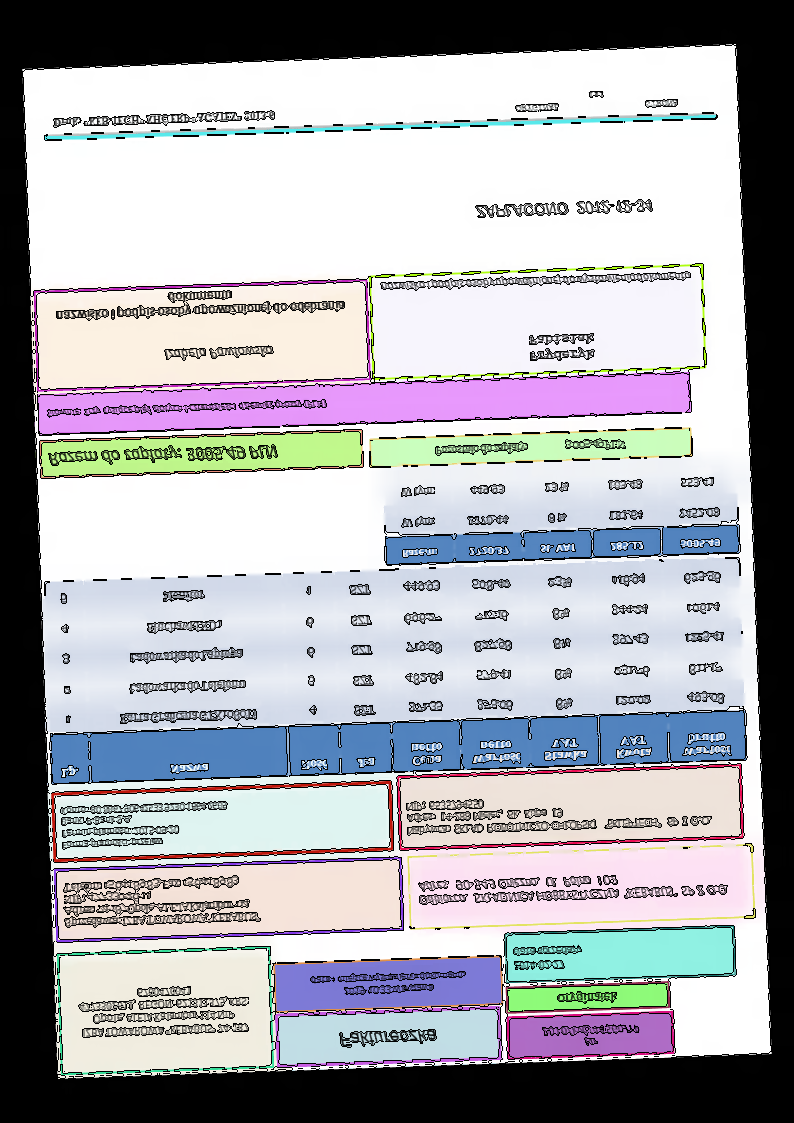Table: (43, 555, 748, 786), (380, 462, 742, 568)
TextBox: (404, 790, 714, 838), (414, 869, 731, 908), (61, 873, 262, 932), (54, 285, 346, 323), (76, 982, 252, 1041), (58, 800, 229, 852), (378, 269, 693, 296), (46, 443, 280, 470), (45, 397, 329, 419), (50, 107, 277, 130), (308, 967, 469, 998), (473, 195, 656, 221), (514, 87, 679, 115), (433, 437, 627, 458), (539, 1019, 643, 1050), (526, 332, 599, 364), (511, 941, 583, 972), (338, 1027, 437, 1049), (163, 344, 275, 362), (554, 989, 620, 1007)
